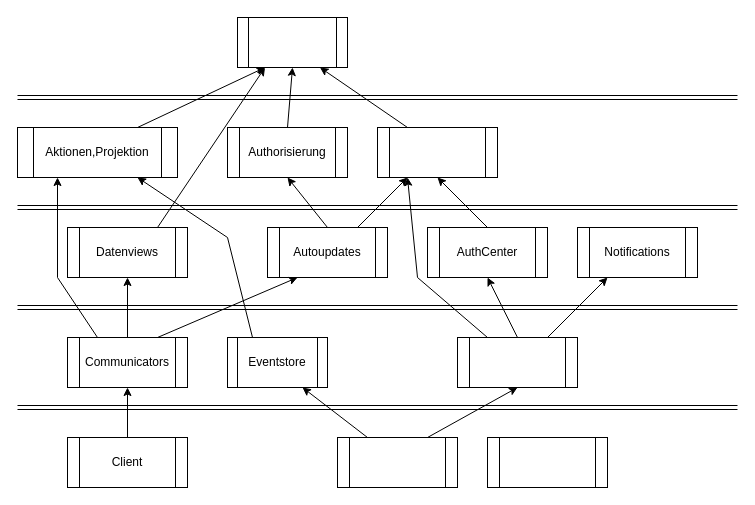
Image size: 755x505. Some labels were removed from this diagram. The centre of each missing label's shape, as x and y in pixels:
"Authentifizierung" goes at point (437, 152).
"Datenbank" goes at point (397, 462).
"DB-Gateways" goes at point (517, 362).
"Messagebus" goes at point (547, 462).
"Modelle" goes at point (292, 42).
